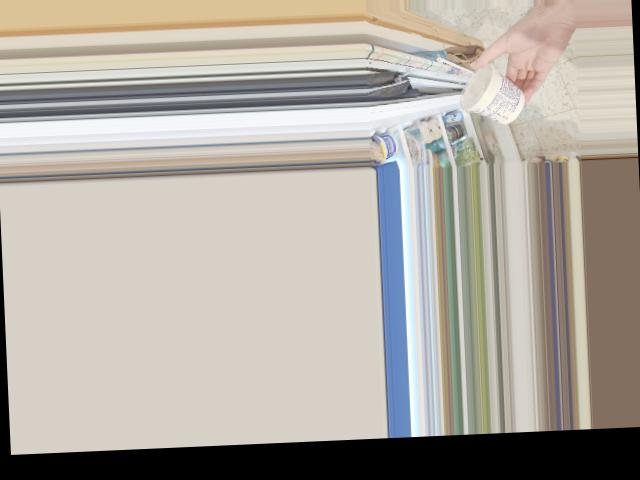cotage: (456, 63, 515, 124)
